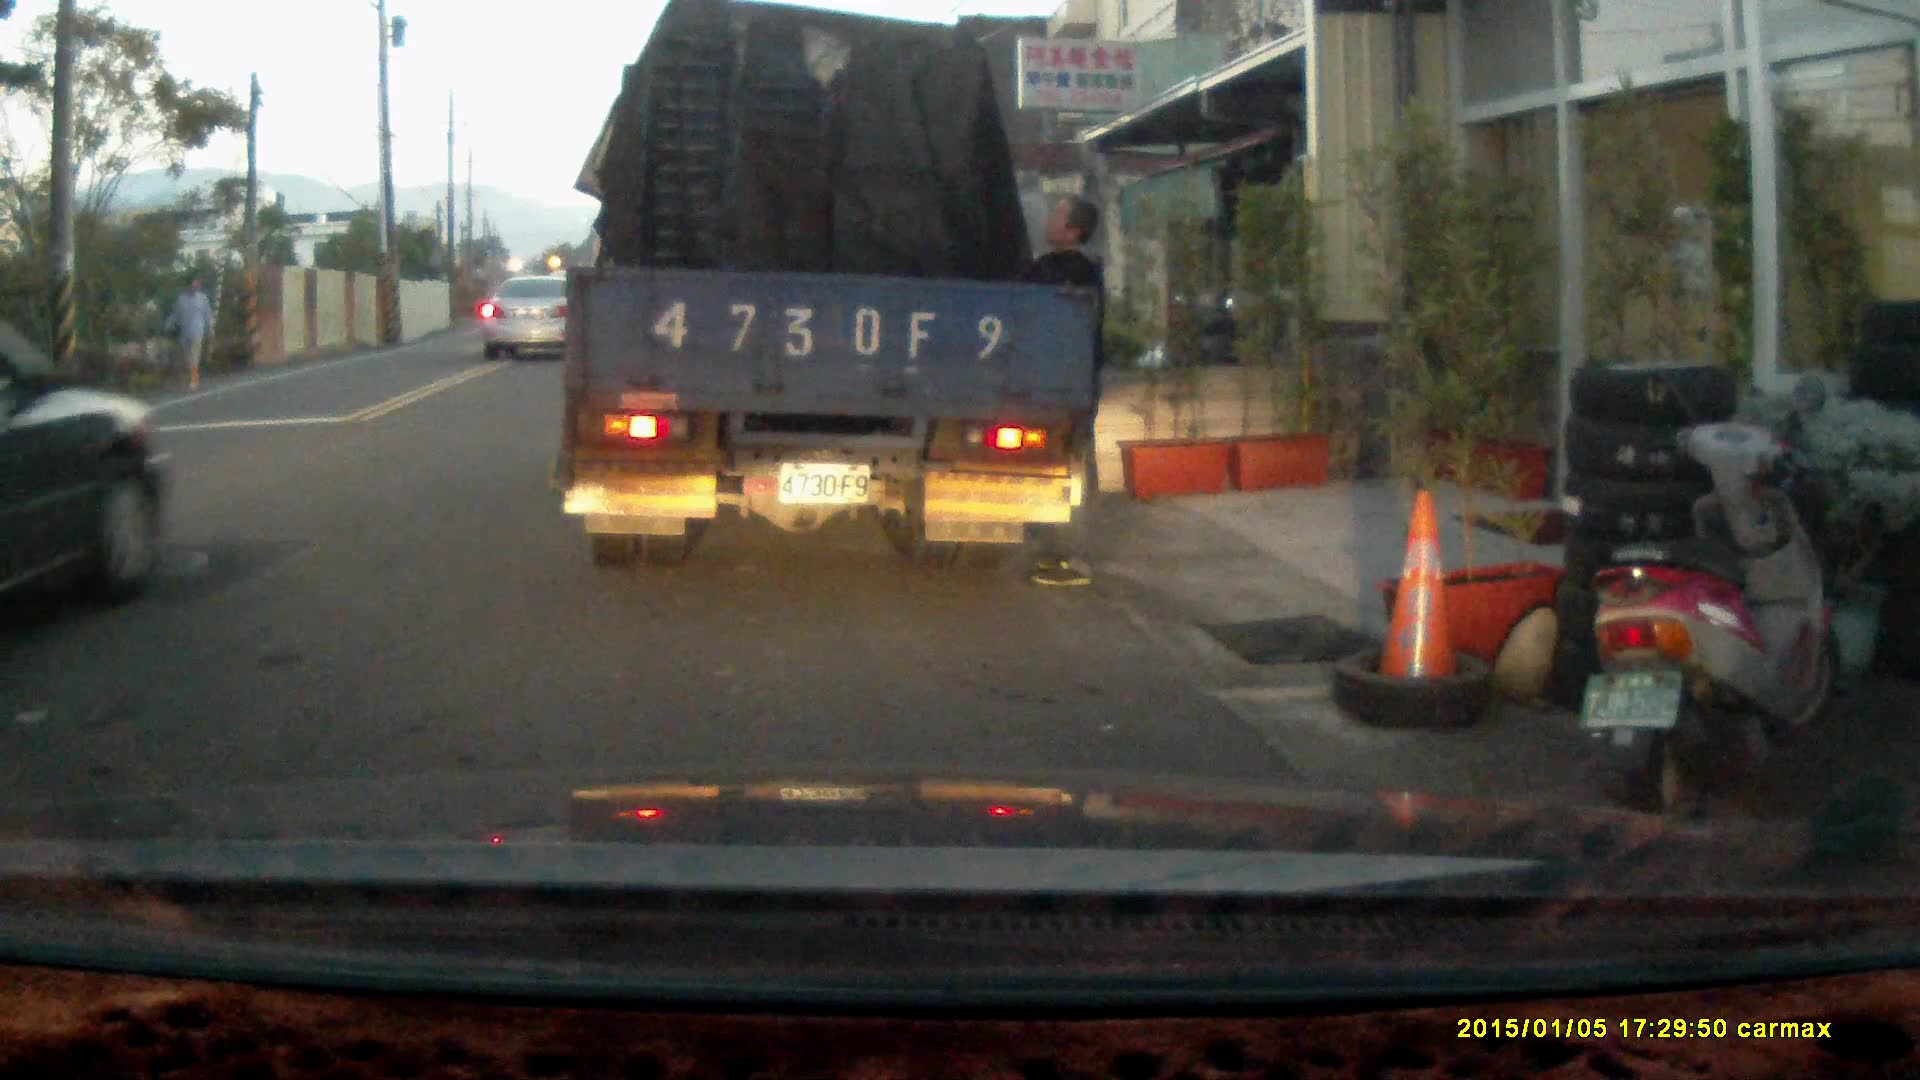pedestrian: (1001, 194, 1106, 587), (167, 270, 215, 389)
vehicle: (565, 23, 1097, 572), (1, 319, 172, 640), (480, 269, 593, 360)
